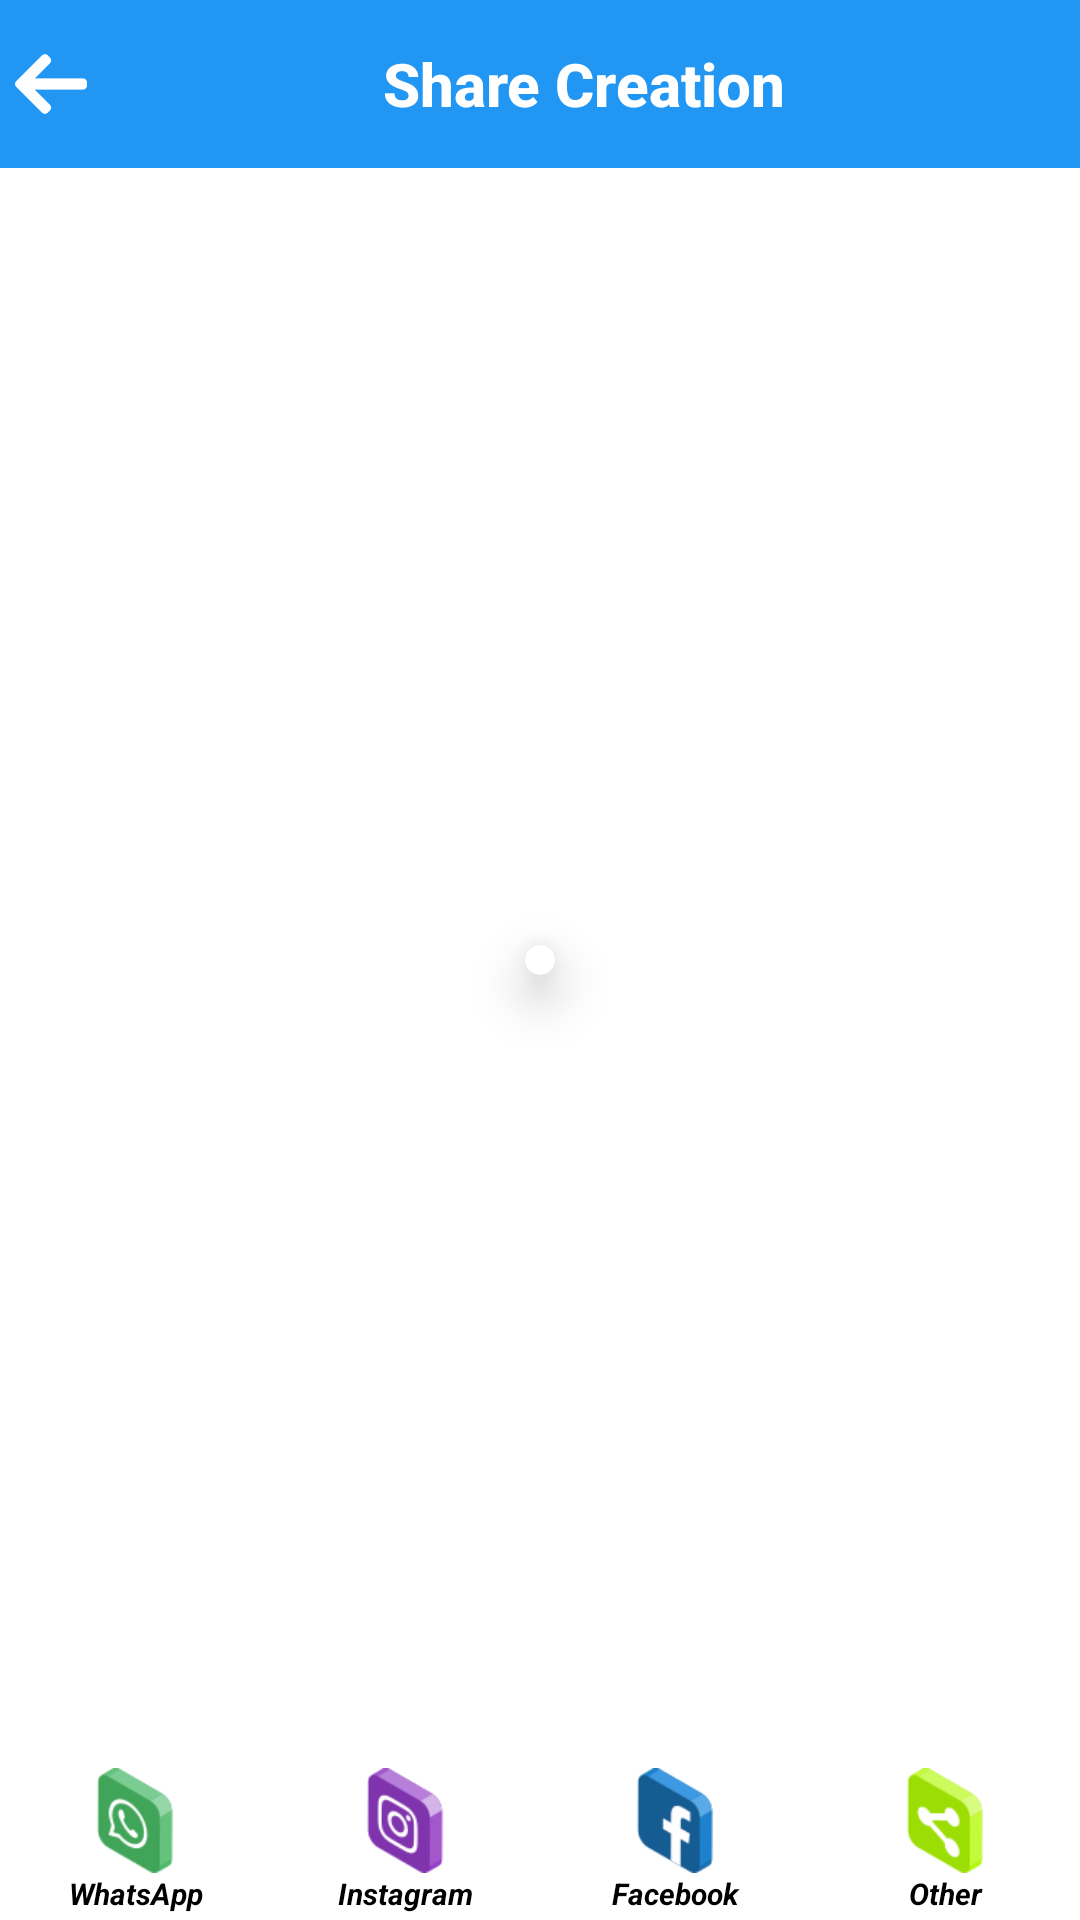

Icon click points for this 1080 × 1920 phone screenshot, format (x=x, y=y):
left arrow back: (x=51, y=84)
share: (x=945, y=1820)
